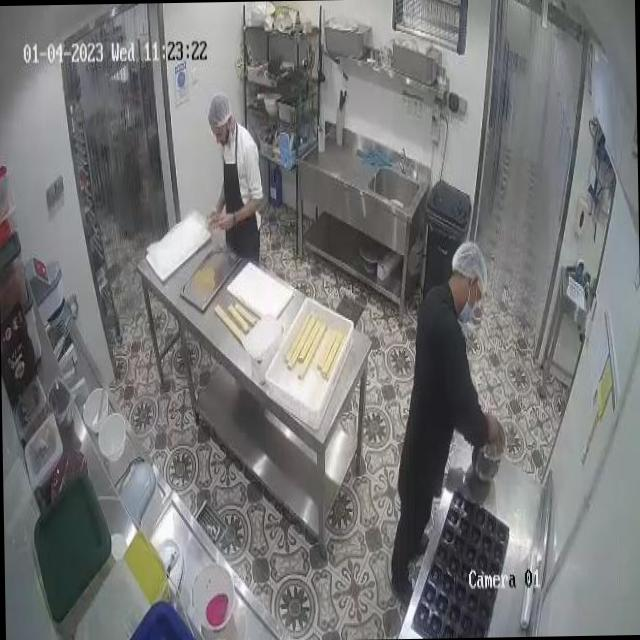hairnet: (452, 242, 493, 290), (206, 94, 232, 125)
